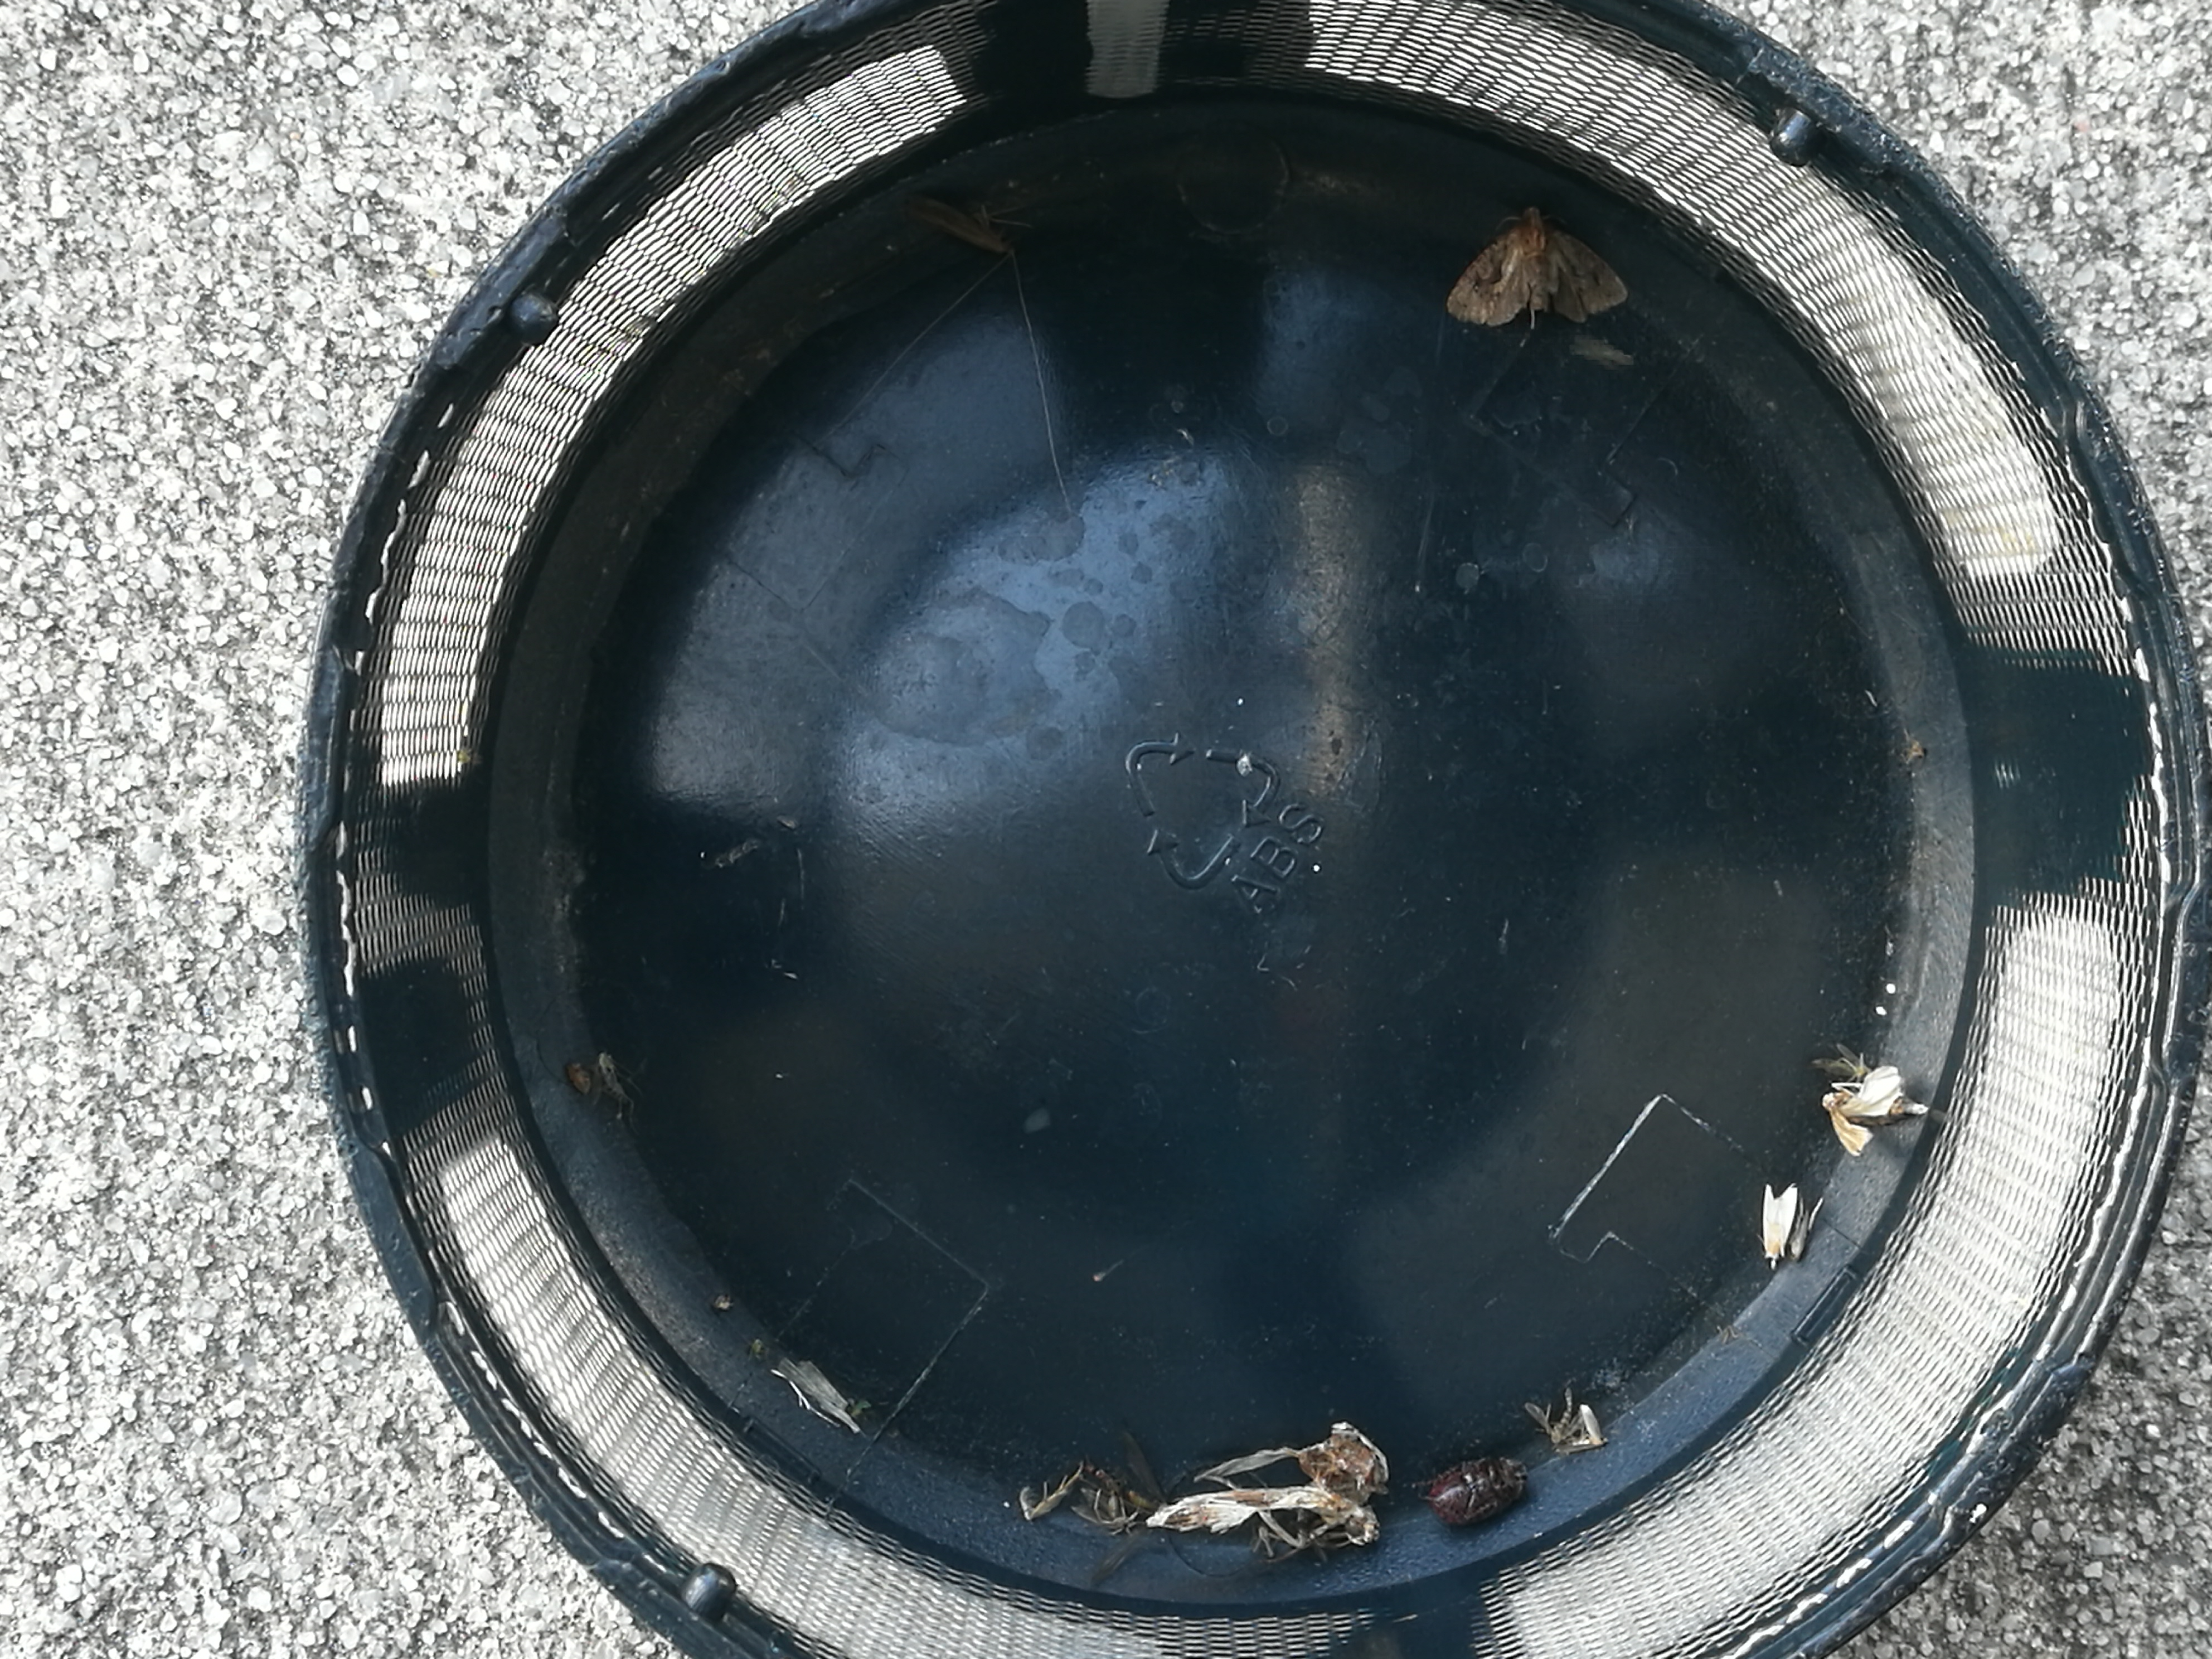beetle: (1425, 1457, 1527, 1527)
mosquito: (1825, 1066, 1900, 1157), (906, 188, 1010, 253), (1787, 1211, 1813, 1256)
moth: (1449, 206, 1629, 324), (1763, 1182, 1796, 1270)
